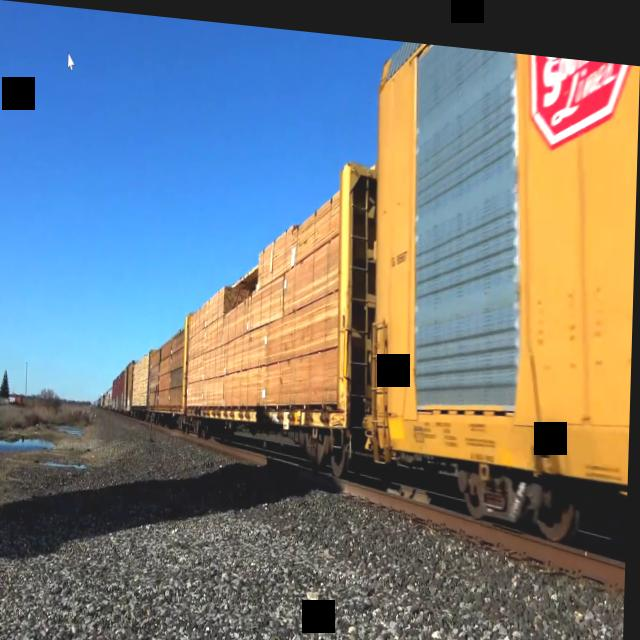autorack: (366, 31, 640, 542)
cargo: (189, 167, 343, 418)
flatcar_bulkhead: (180, 132, 375, 477)
